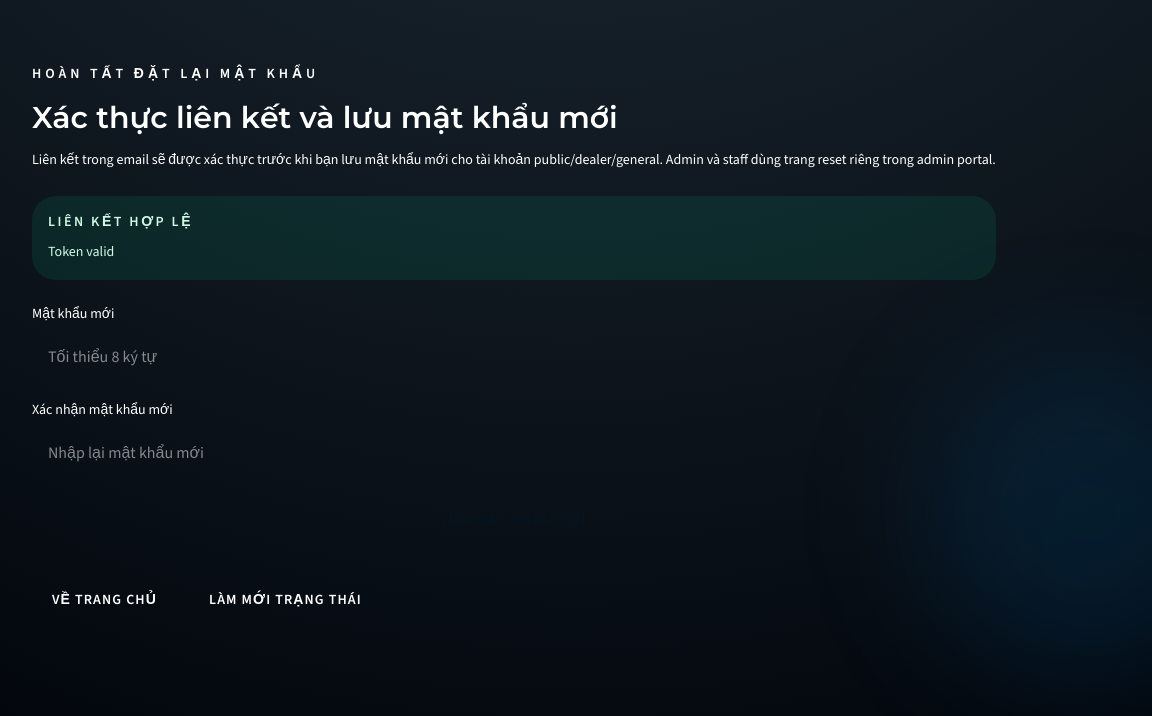
ResetPasswordPage › surfaces reset API failures and updates expired-token state when needed
The image size is (1152, 716).
(page scrolled)
expect the text "Token valid" is shown: met, box [48,242,114,261]
Type "ChangedPass#456" into the password field labelled "Mật khẩu mới" at (514, 356), box [32,332,996,380]
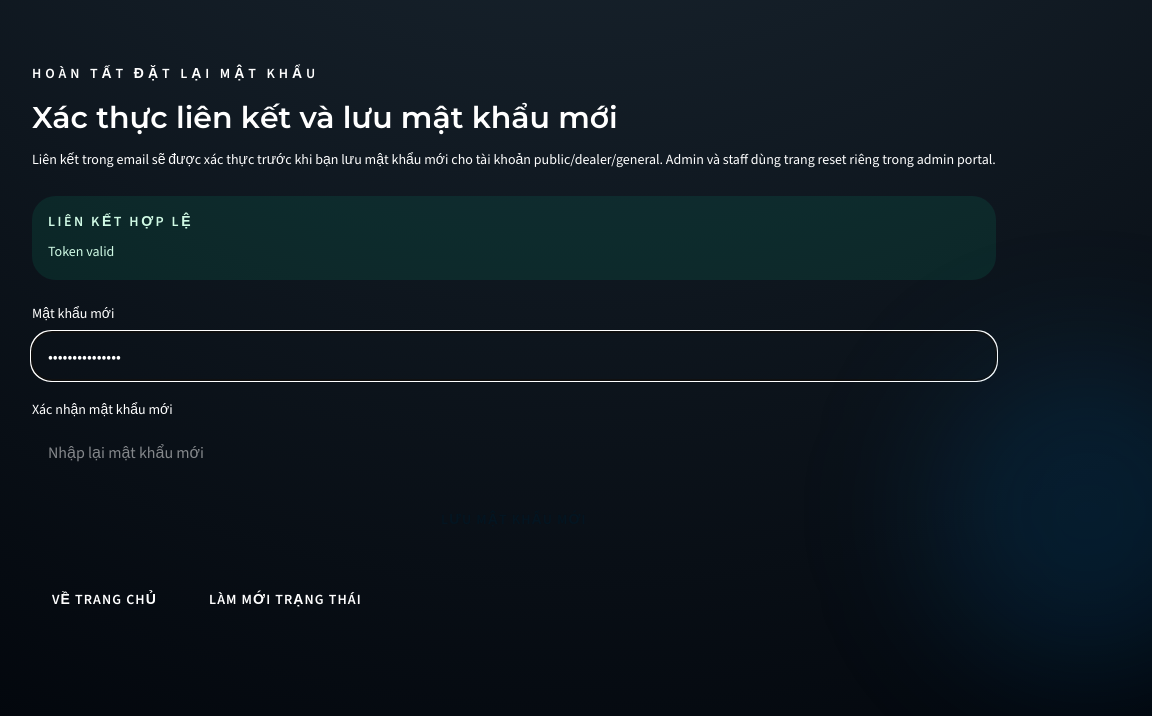
Type "ChangedPass#456" into the password field labelled "Xác nhận mật khẩu mới" at (514, 452), box [32,428,996,476]
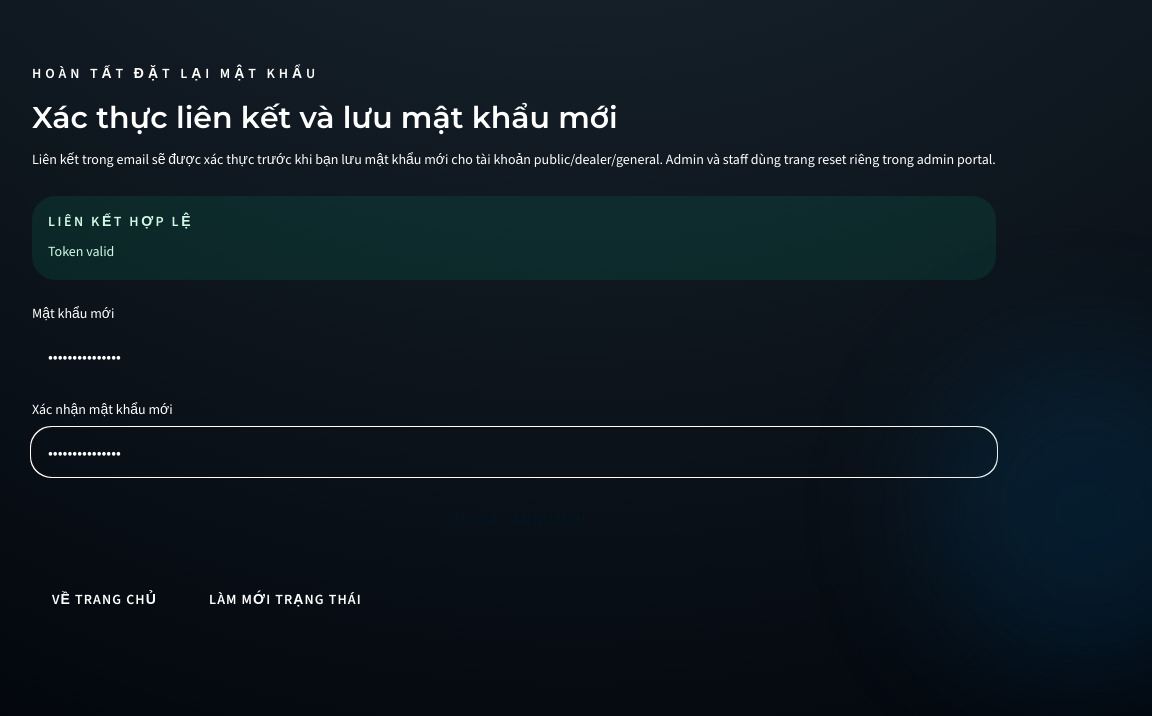
Submit the form, box [32,304,996,544]
(page scrolled)
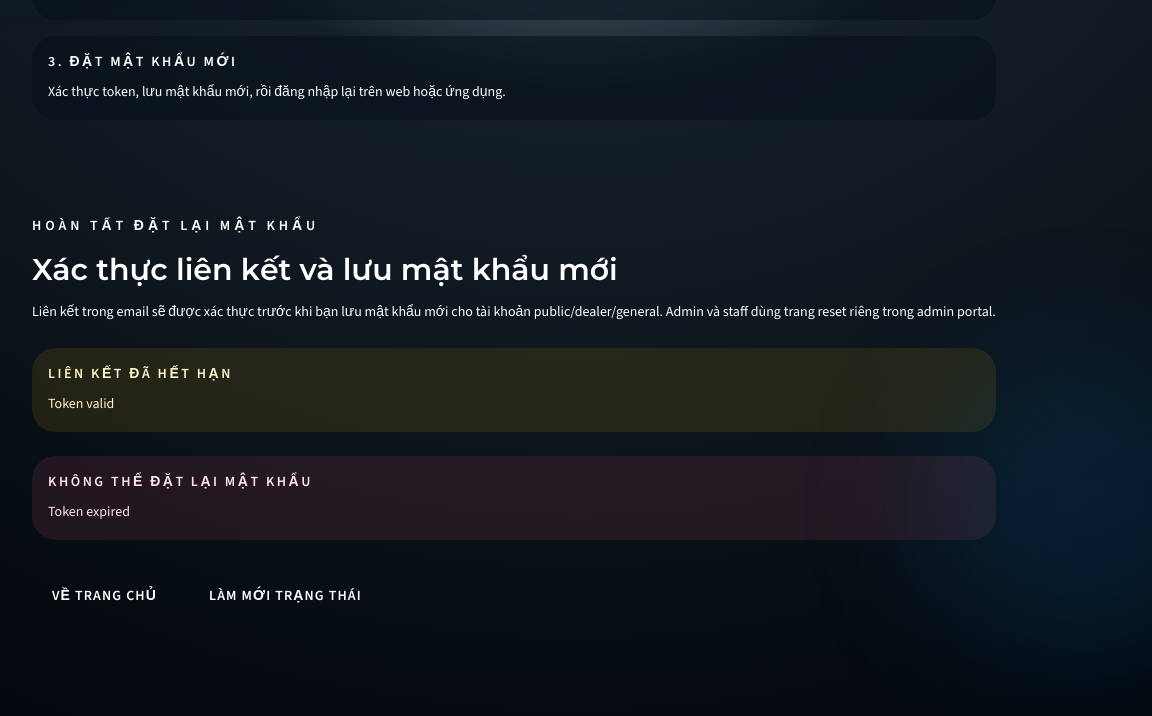
expect the text "Token expired" is shown: met, box [48,502,130,521]
expect the text "Liên kết đã hết hạn" is shown: met, box [48,364,233,383]
